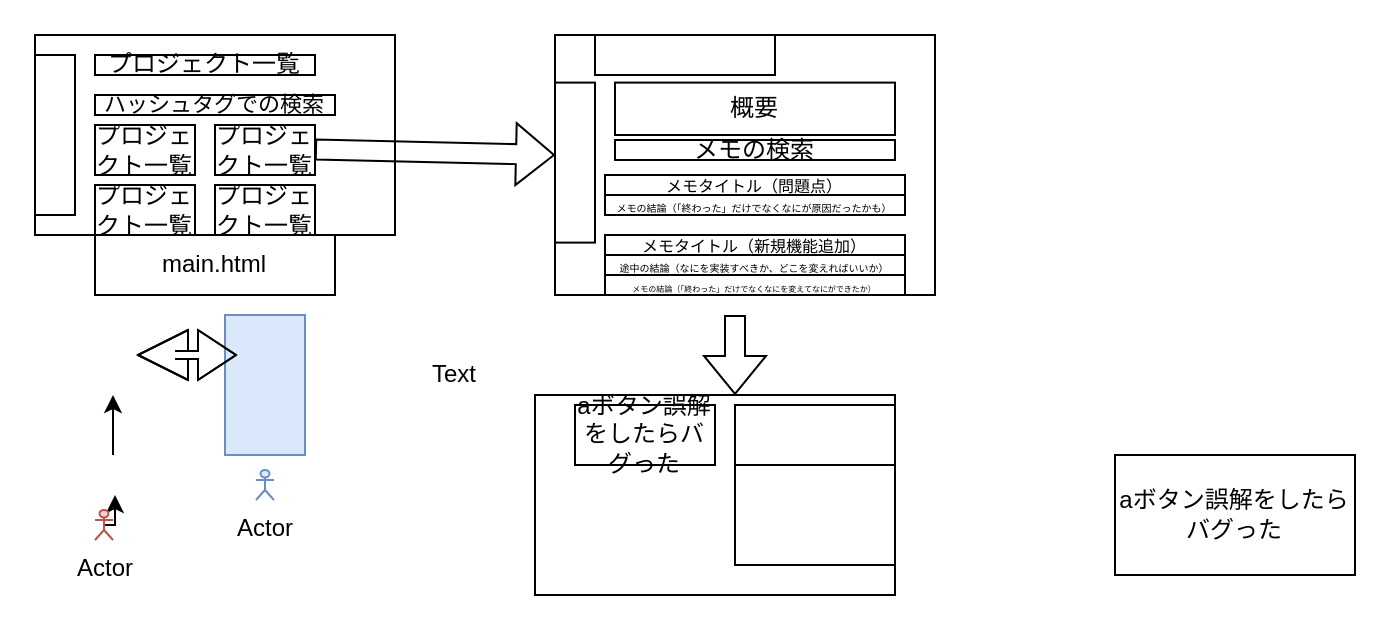
Some shapes in this 1390 by 630 pixel diagram are drawn without their labels. Each missing label, with the centre of its shape:
"aボタンが依存してる関数はこれ" goes at (814,434).
"b校 サーバ" goes at (264,384).
"プロジェクト名" goes at (684,54).
